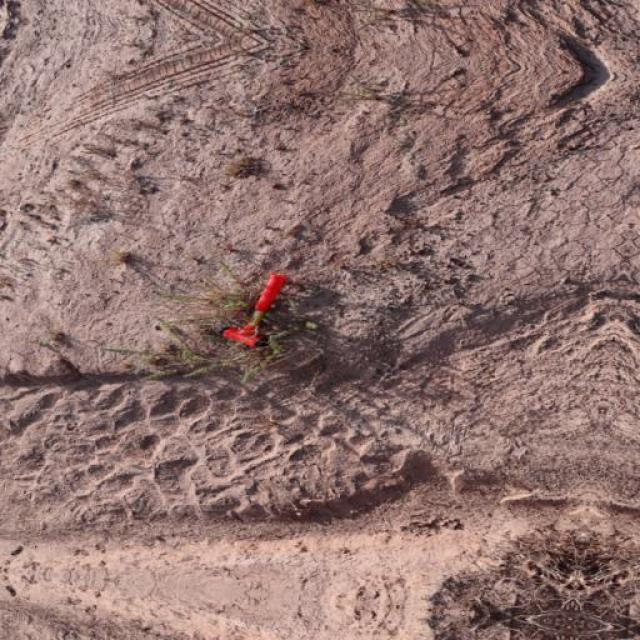mallet: (224, 272, 292, 348)
